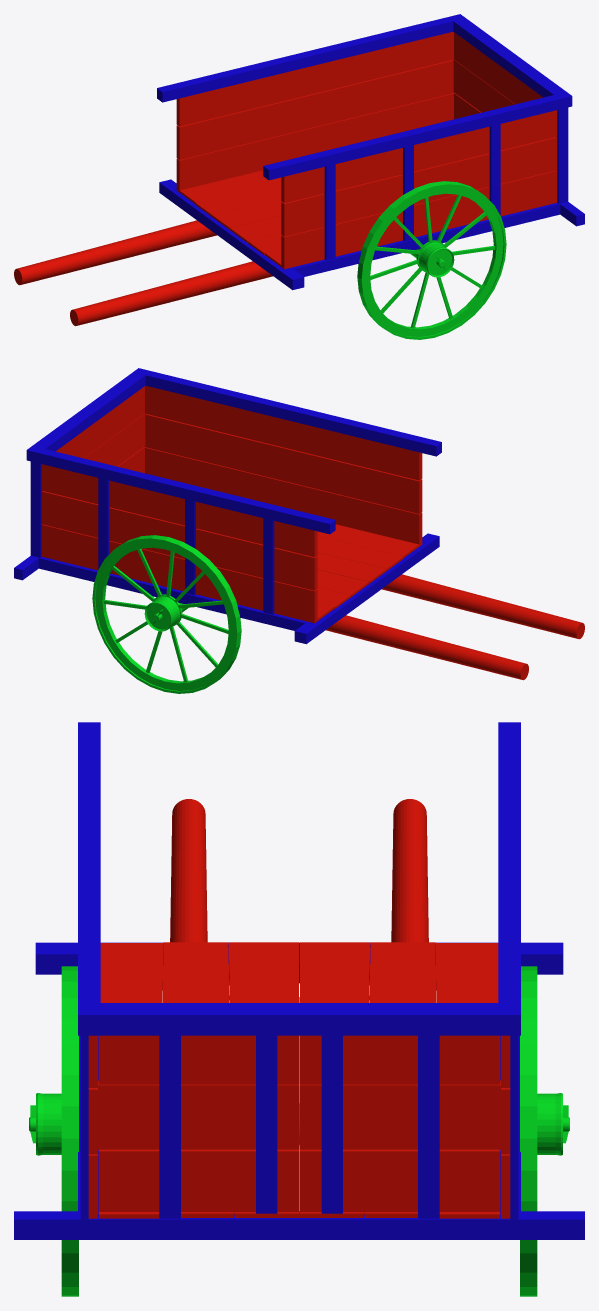
File: Carreta.fbx
3 renders of one model, top to bottom at view 1: azimuth 30°, elevation 25°; view 2: azimuth 150°, elevation 25°; view 3: azimuth 270°, elevation 25°, orthographic. The views are drawn at different scales.
Visible parts, largest first — view 1: Carreta; view 2: Carreta; view 3: Carreta.
Boxes of the visible parts, x1,y1,x2,y2 form: Carreta: (14,14,584,339); Carreta: (14,368,584,693); Carreta: (14,722,584,1296).
Size of the model in its own units: 481 by 199 by 256.
